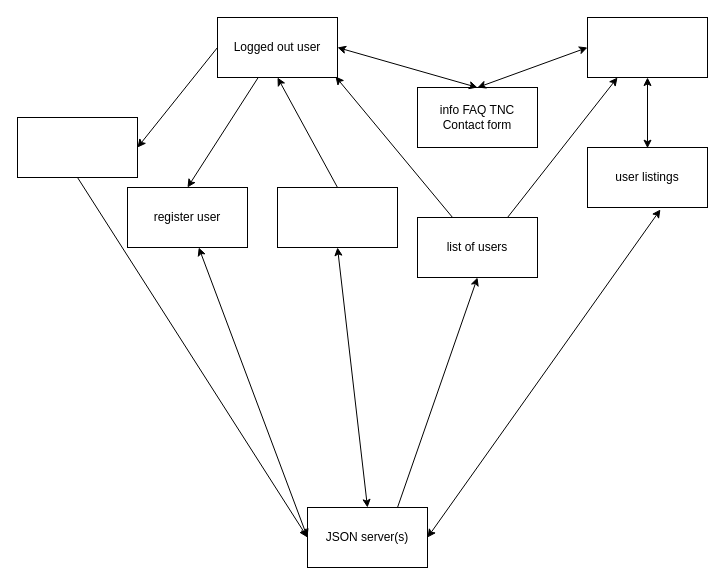
Some shapes in this 725 by 585 pixel diagram are drawn without their labels. Here are the shapes that lost their labels. From the top down, the centre of each, then its label:
At [647,47]: "logged in user".
At [77,147]: "log in".
At [337,217]: "main listings".
